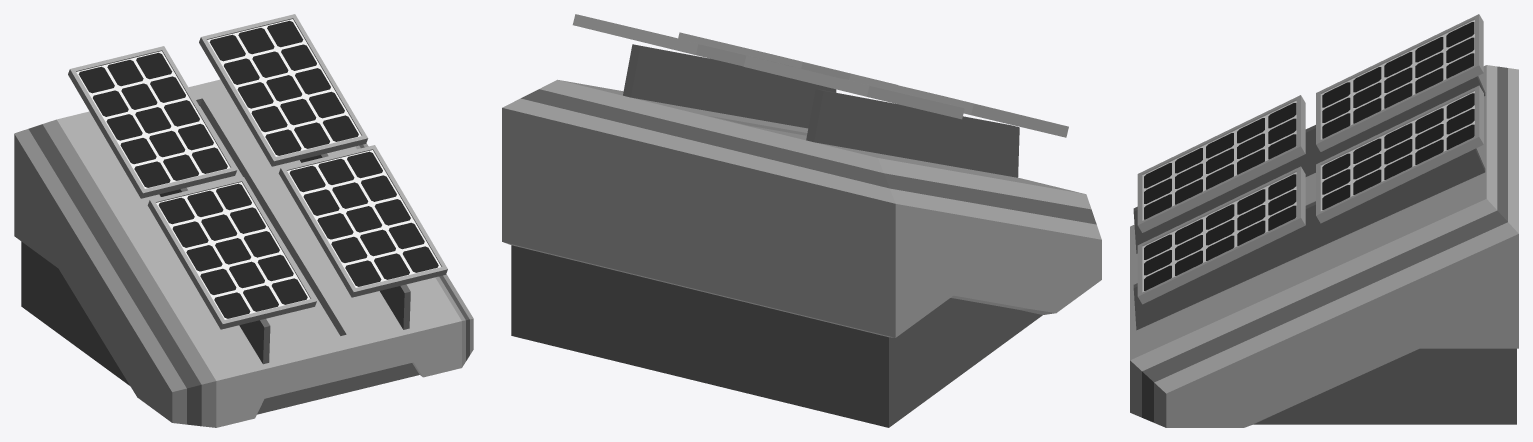
Rendered from debris_structure.repacked.glb.
3 views of the same model, side by side, from view 1: azimuth 30°, elevation 25°; view 2: azimuth 150°, elevation 25°; view 3: azimuth 270°, elevation 25° (orthographic). The views are drawn at different scales.
Visible parts, largest first — view 1: SolarPanel_Structure; view 2: SolarPanel_Structure; view 3: SolarPanel_Structure.
Part boxes in pixels (bbox=[...]): SolarPanel_Structure: bbox=[14, 14, 473, 427]; SolarPanel_Structure: bbox=[502, 14, 1101, 427]; SolarPanel_Structure: bbox=[1130, 14, 1518, 427].
Bounding box in the file's own units: 4 × 3.07 × 4.
Materials: 1 (1 with a texture image).
